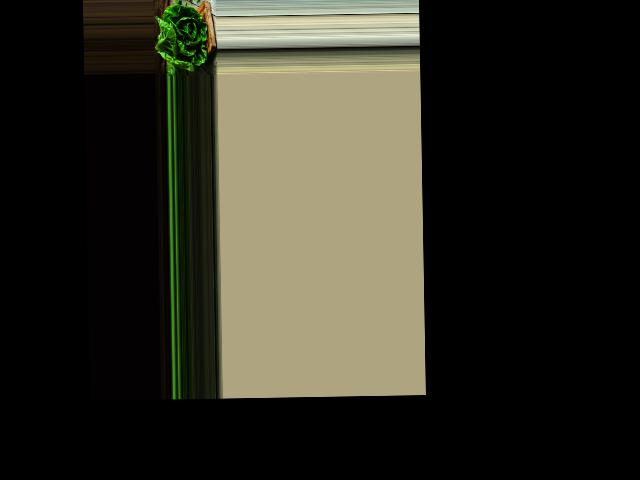lettuce: (156, 7, 211, 73)
